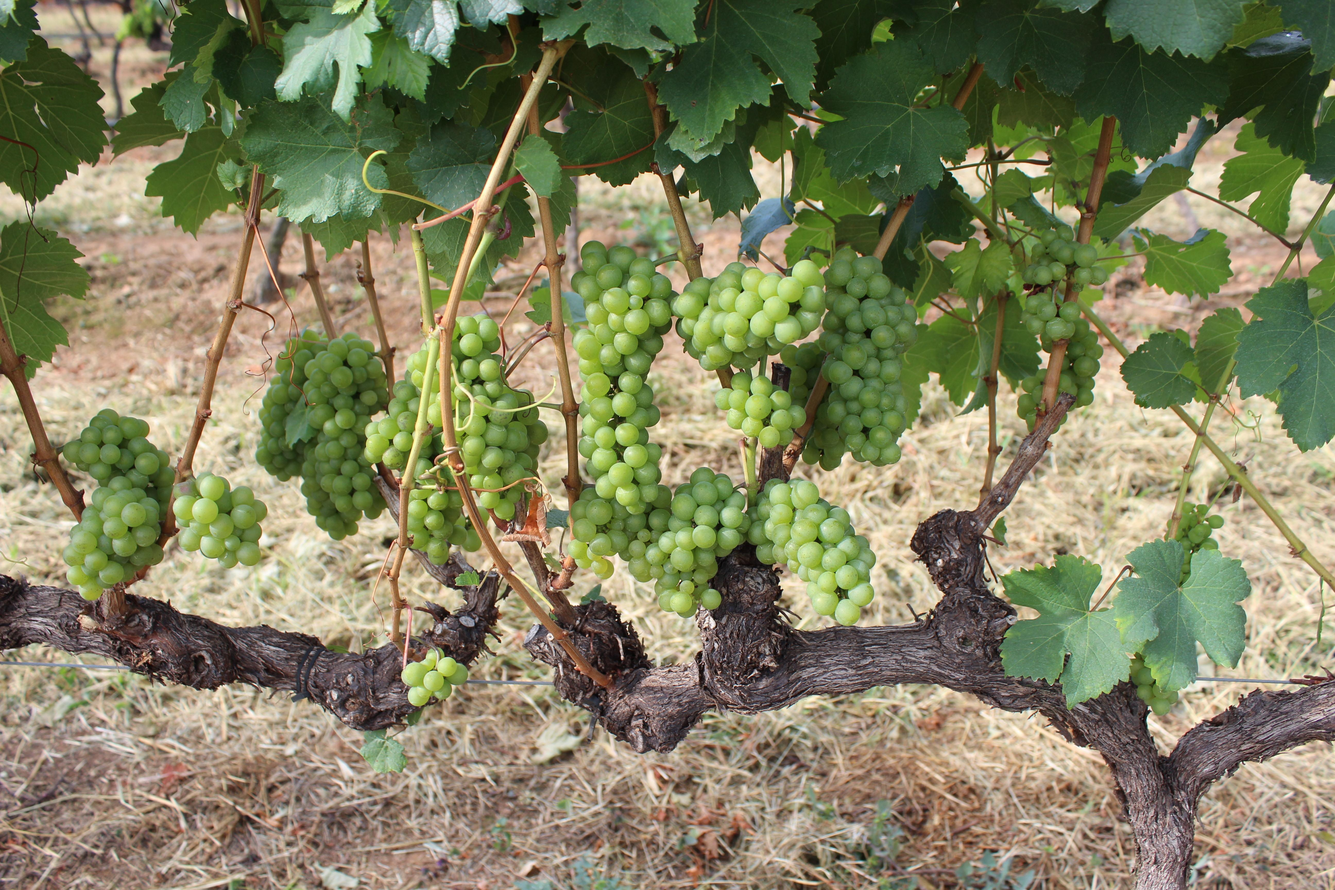leaf: (816, 40, 968, 194), (660, 0, 819, 138), (1113, 541, 1251, 688), (241, 97, 402, 223), (1075, 29, 1227, 158), (1000, 555, 1129, 705), (0, 37, 106, 201), (1236, 279, 1335, 450), (0, 220, 90, 379), (1219, 32, 1330, 160), (275, 3, 380, 121), (975, 0, 1096, 95), (144, 125, 240, 234), (1219, 123, 1304, 233), (563, 65, 654, 164), (1104, 0, 1248, 59), (808, 0, 900, 90), (407, 121, 495, 209), (543, 0, 695, 50), (1093, 165, 1191, 240), (905, 315, 978, 405), (1135, 229, 1231, 297), (112, 72, 184, 156), (1121, 332, 1196, 408), (213, 30, 282, 107), (905, 0, 977, 73), (168, 0, 243, 67), (363, 30, 431, 101), (997, 70, 1075, 127), (1274, 0, 1335, 70), (1195, 307, 1244, 394), (394, 0, 459, 64), (944, 239, 1013, 299), (738, 196, 796, 260), (159, 64, 212, 133), (514, 135, 563, 197), (785, 209, 834, 266), (0, 0, 38, 66), (593, 151, 653, 185), (359, 730, 406, 773), (459, 0, 524, 29), (367, 164, 386, 187), (600, 68, 615, 75), (1229, 374, 1232, 379), (538, 137, 541, 141), (1113, 0, 1118, 2), (817, 257, 819, 260), (1027, 122, 1032, 123), (446, 115, 450, 116), (544, 142, 545, 145), (975, 88, 976, 89), (549, 149, 549, 150), (1226, 162, 1226, 162)
